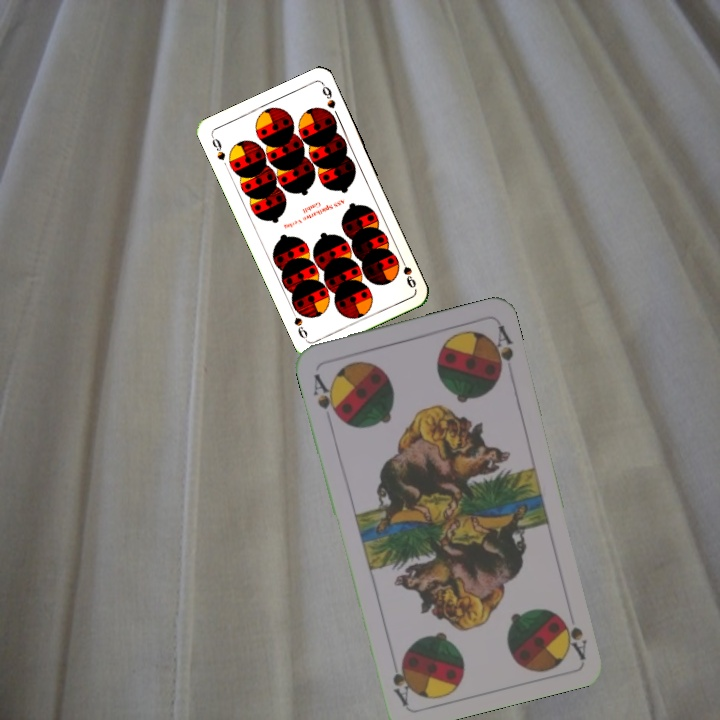S9: (396, 252, 419, 291), (207, 132, 228, 163)
SA: (309, 369, 343, 423), (557, 611, 589, 661)
